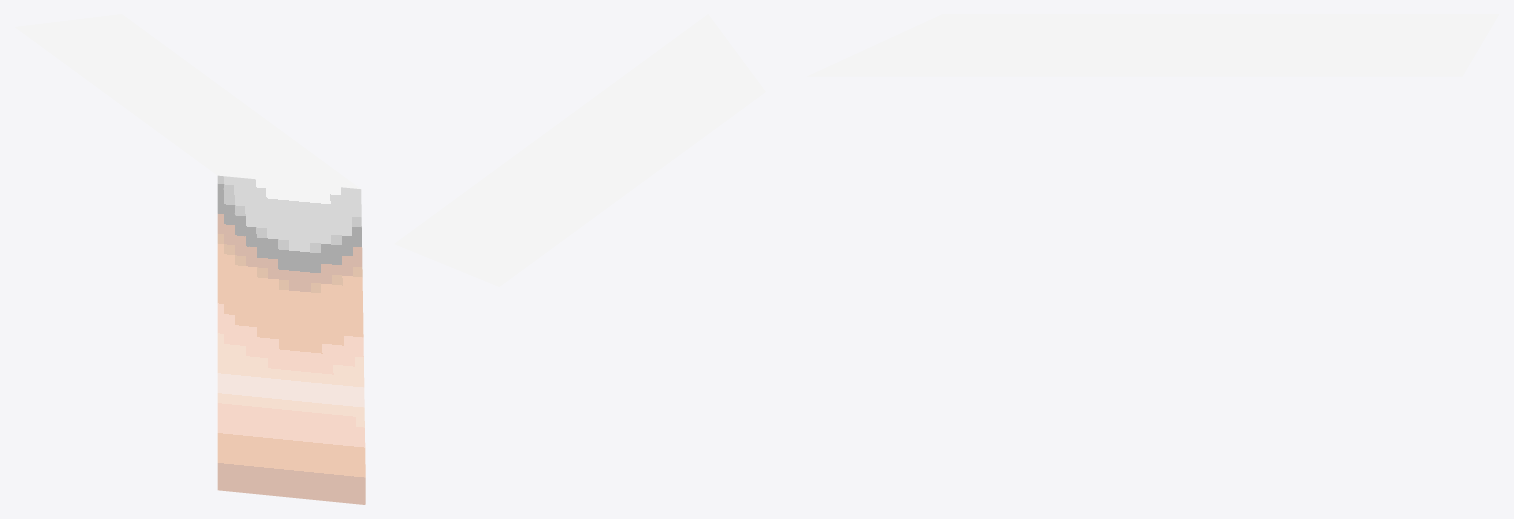
The picture shows the model from 3 angles, left to right: view 1: azimuth 30°, elevation 25°; view 2: azimuth 150°, elevation 25°; view 3: azimuth 270°, elevation 25°; orthographic projection. The views are drawn at different scales.
Size of the model in its own units: 0.5005 by 1.6 by 2.38.
Materials: 1 (1 with a texture image).
